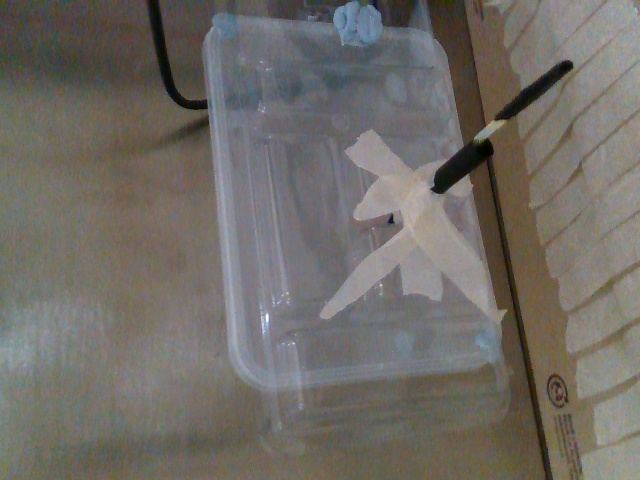test_strip: (475, 57, 573, 143)
